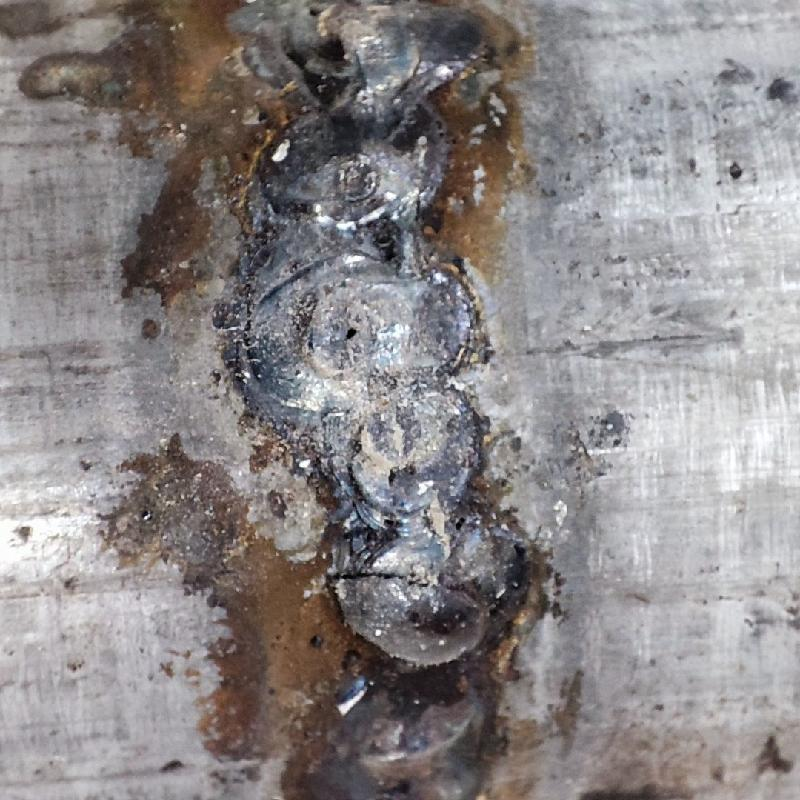Not_fully_soldered: (238, 239, 477, 650)
Surface_pores: (322, 310, 385, 356)
wrong_size: (236, 2, 471, 226)
